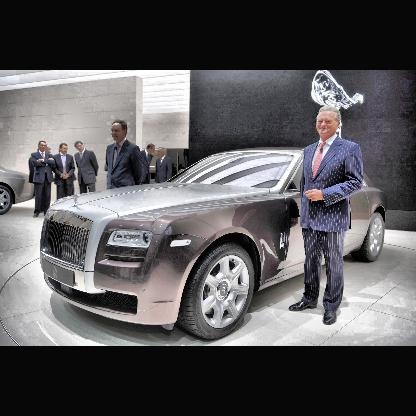Rolls-Royce Ghost Sedan 2012: (41, 145, 388, 341)
